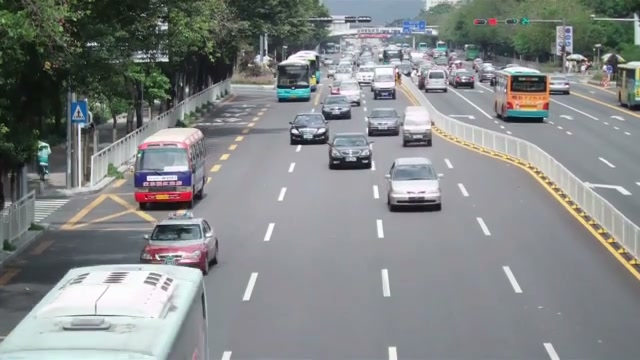bus: (133, 126, 208, 209), (493, 65, 551, 122), (276, 61, 311, 102), (287, 50, 321, 87)
car: (0, 262, 209, 357), (139, 216, 219, 275), (384, 156, 443, 212), (327, 133, 373, 170), (400, 105, 433, 147), (289, 113, 329, 145), (366, 106, 400, 136), (321, 95, 352, 120), (336, 80, 362, 105), (424, 69, 448, 94), (449, 69, 475, 89), (548, 78, 571, 95)
pedestrian: (37, 139, 52, 181)
truck: (616, 61, 640, 109), (371, 66, 396, 99)
